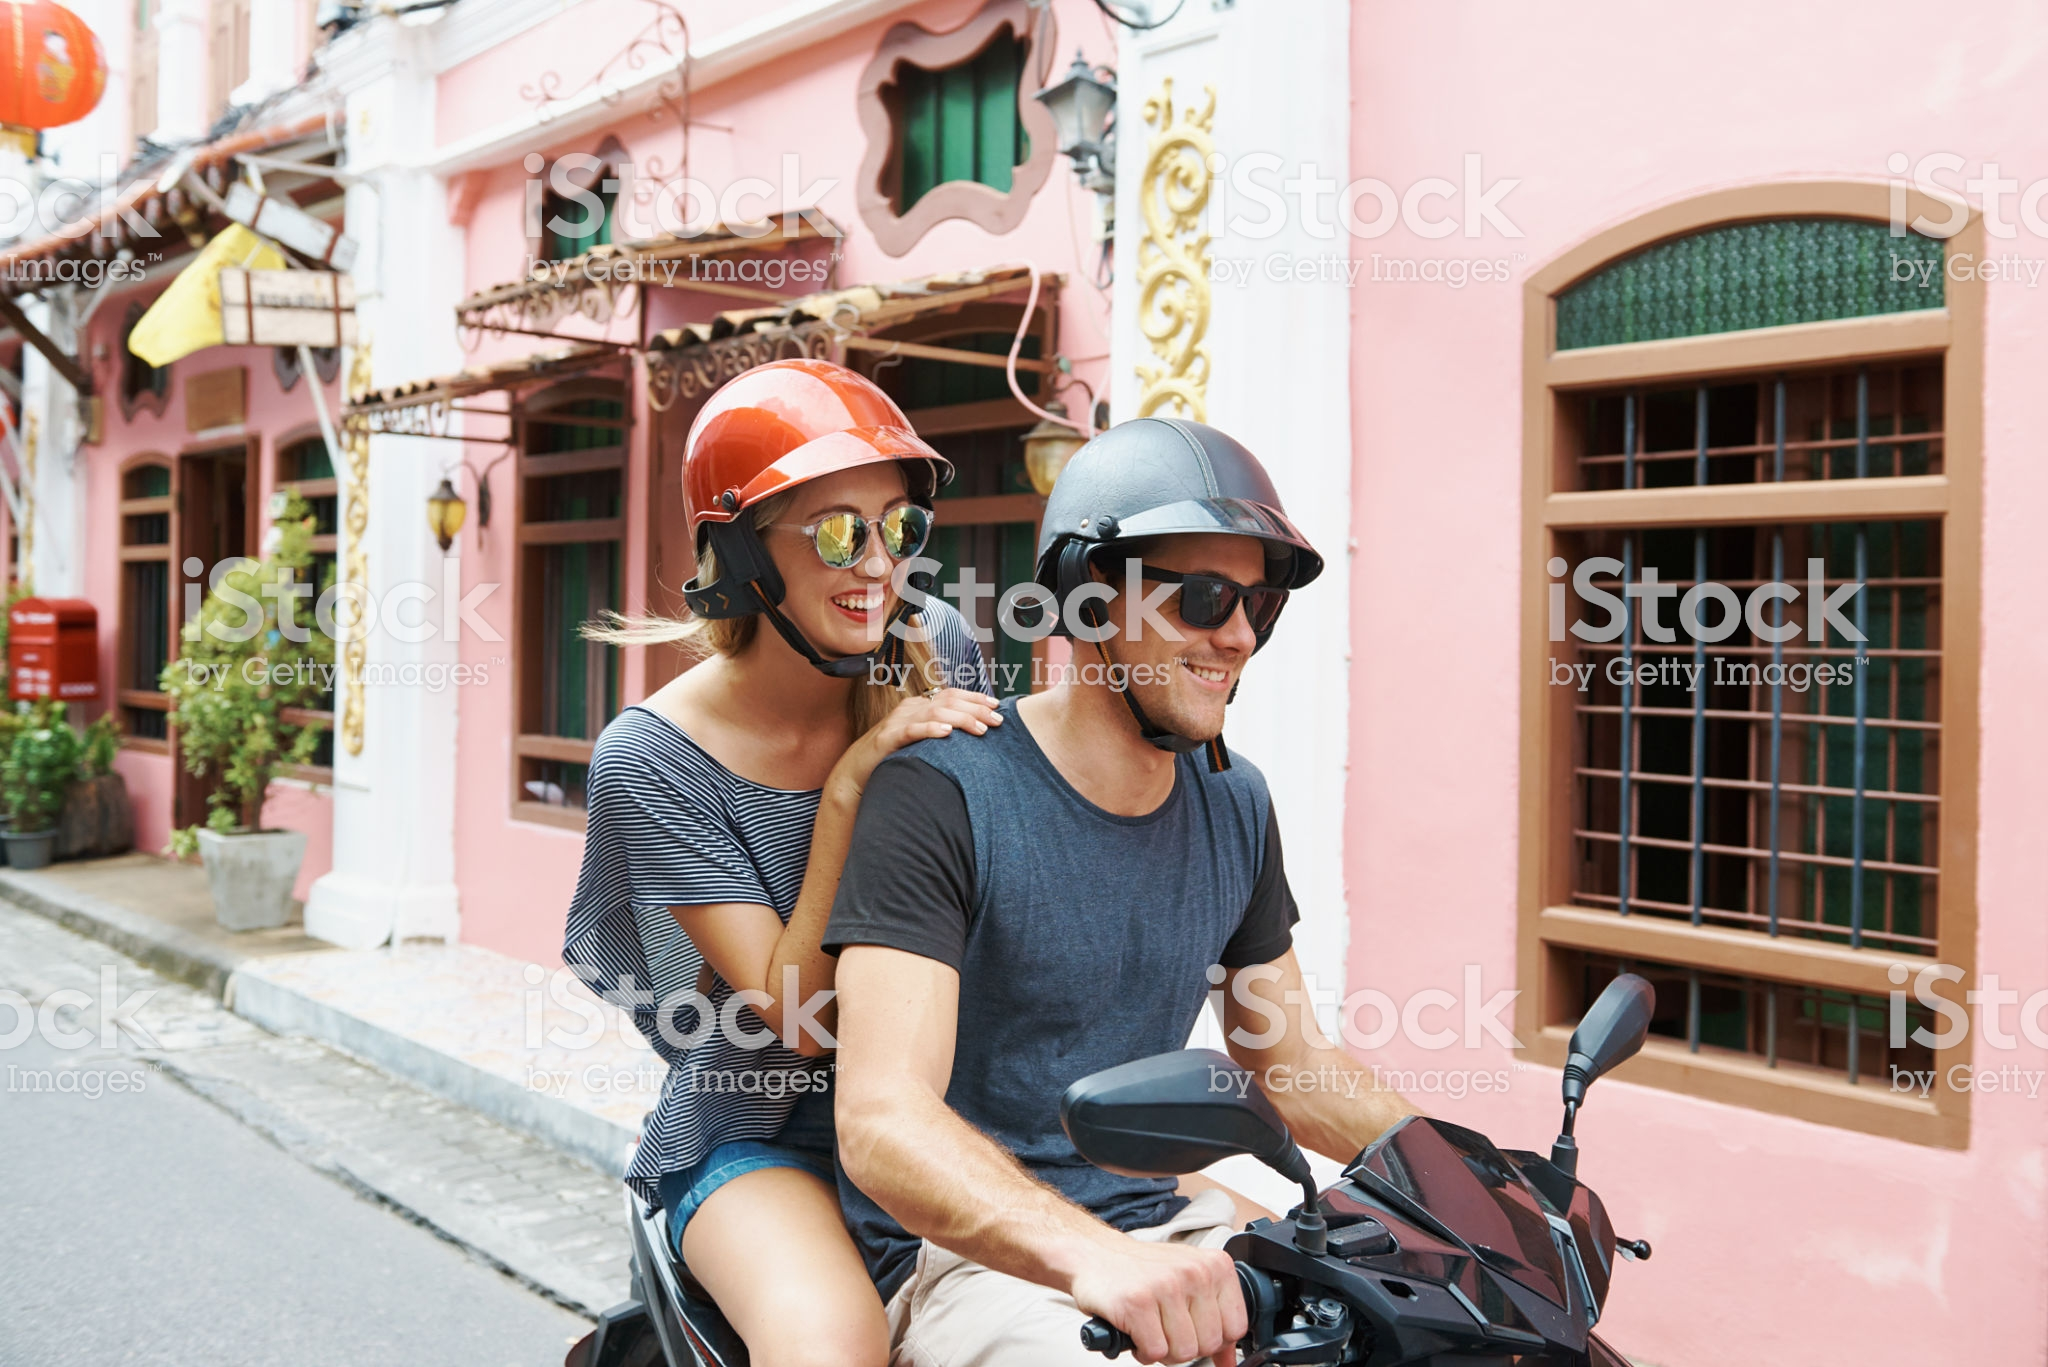helmet: (666, 357, 945, 534), (993, 418, 1270, 587)
